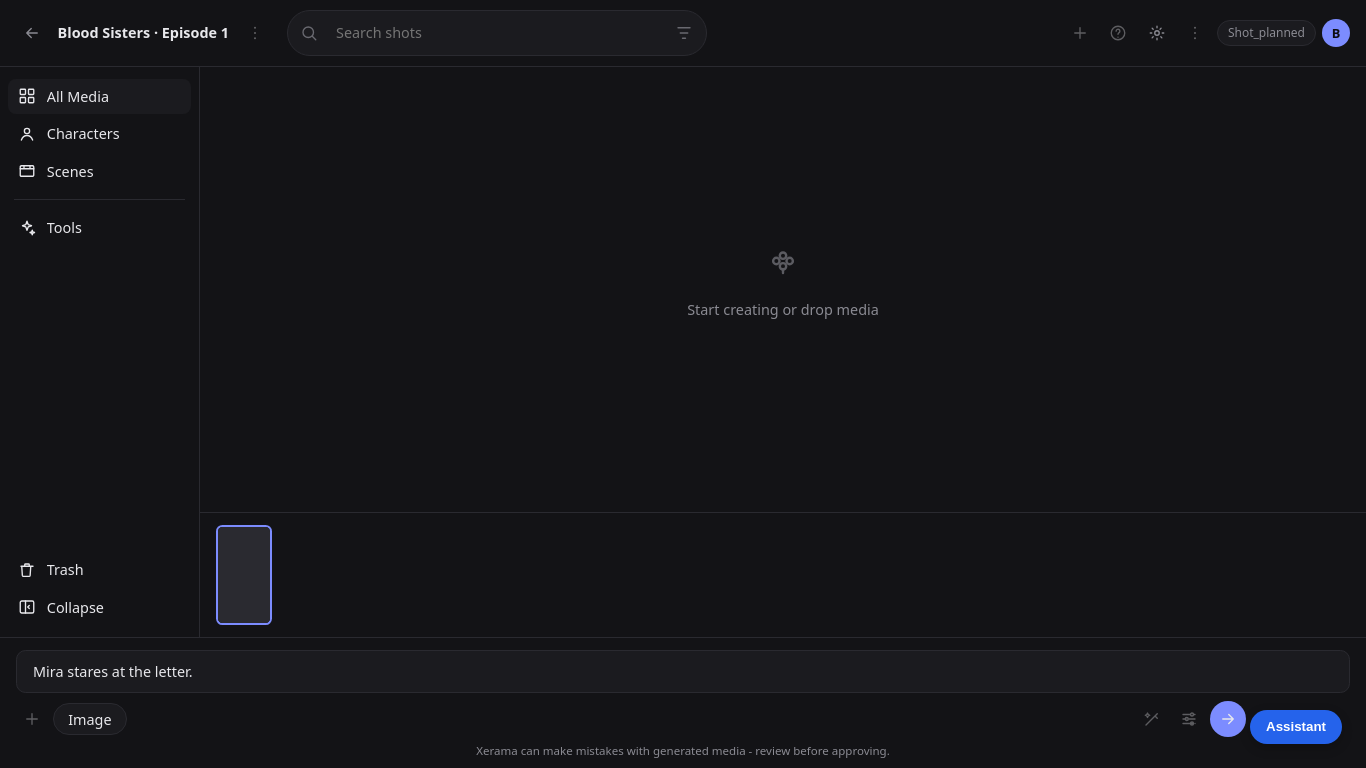
Test: Production Studio (Flow-style redesign) › shows a pending keyframe with Accept/Reject after generating, not auto-accepted
The width and height of the screenshot is (1366, 768).
Click the button titled "Generate" at {"x": 1228, "y": 719}, box [1210, 701, 1246, 737]
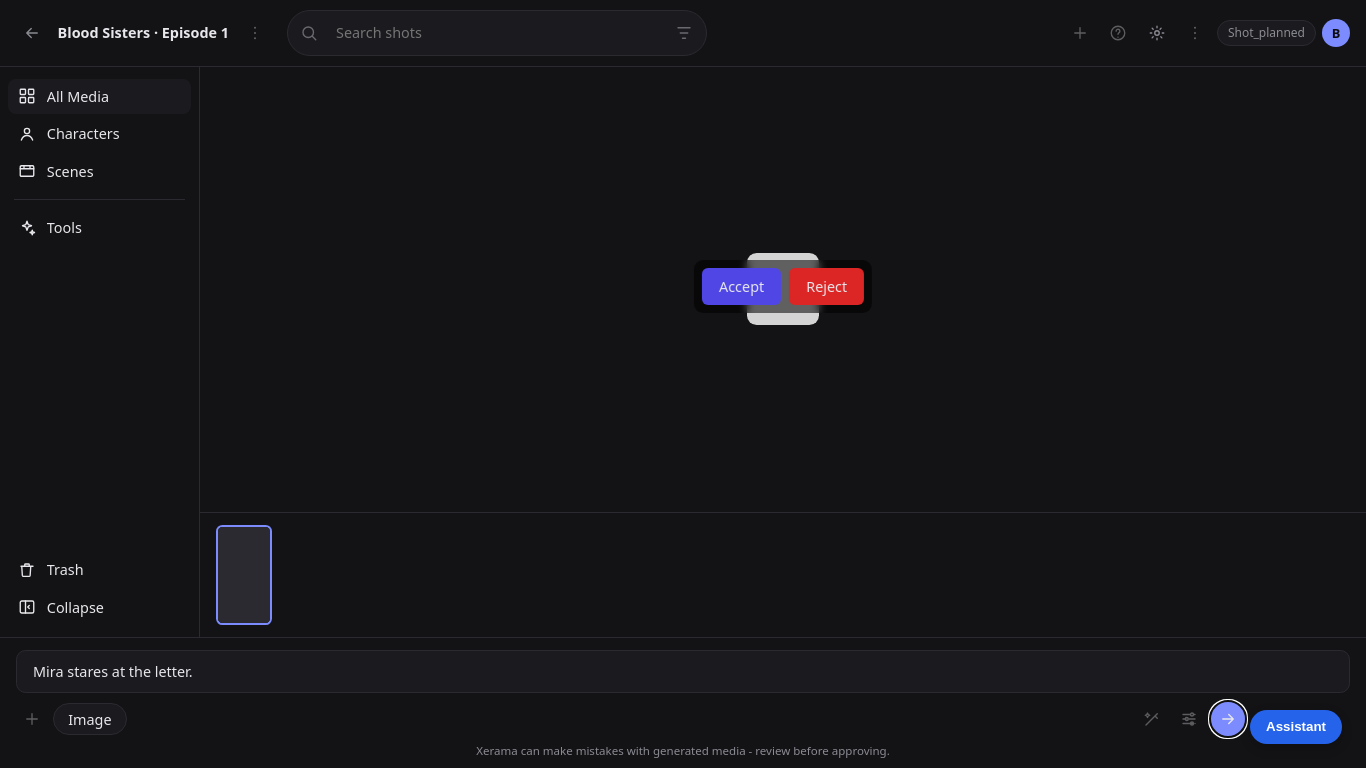
expect the button "Accept" is shown: met, box [702, 268, 781, 305]
expect the button "Reject" is shown: met, box [789, 268, 864, 305]
